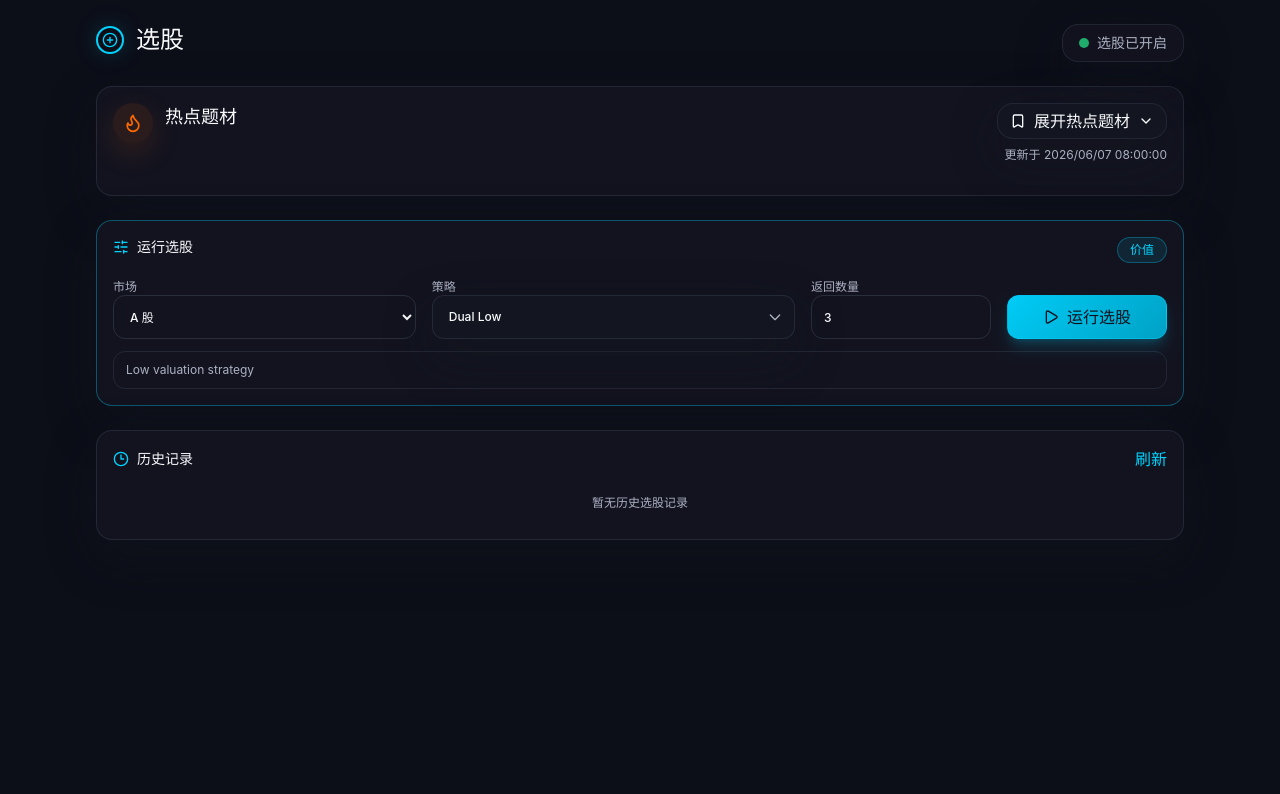
Test: StockScreeningPage › loads Screening hotspot themes on demand
Later steps or results of the test are not shown.
Expected: the text "选股已开启" is shown, [1097,33,1167,53]
Step 1. Click the button "展开热点题材" → click(1082, 121), box [997,103,1167,139]
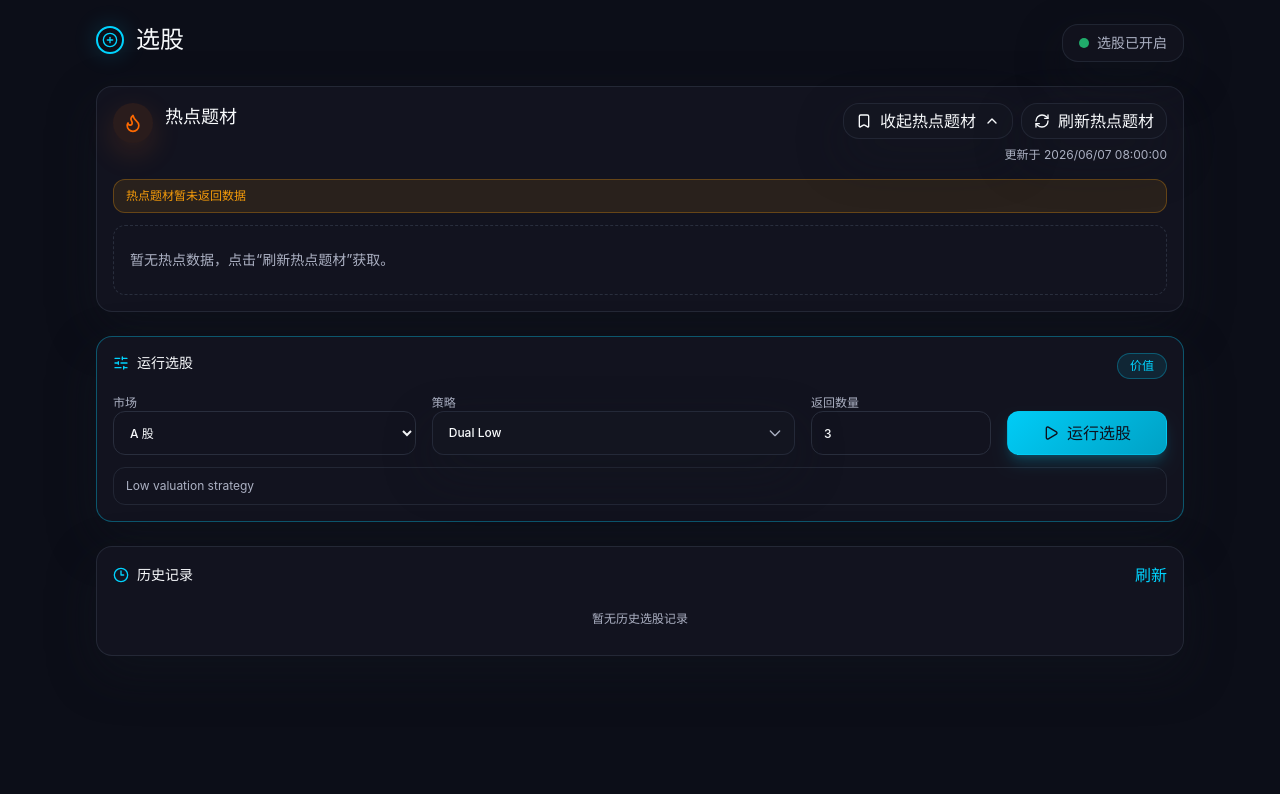
Step 2. Click the button "刷新热点题材" → click(1094, 121), box [1021,103,1167,139]
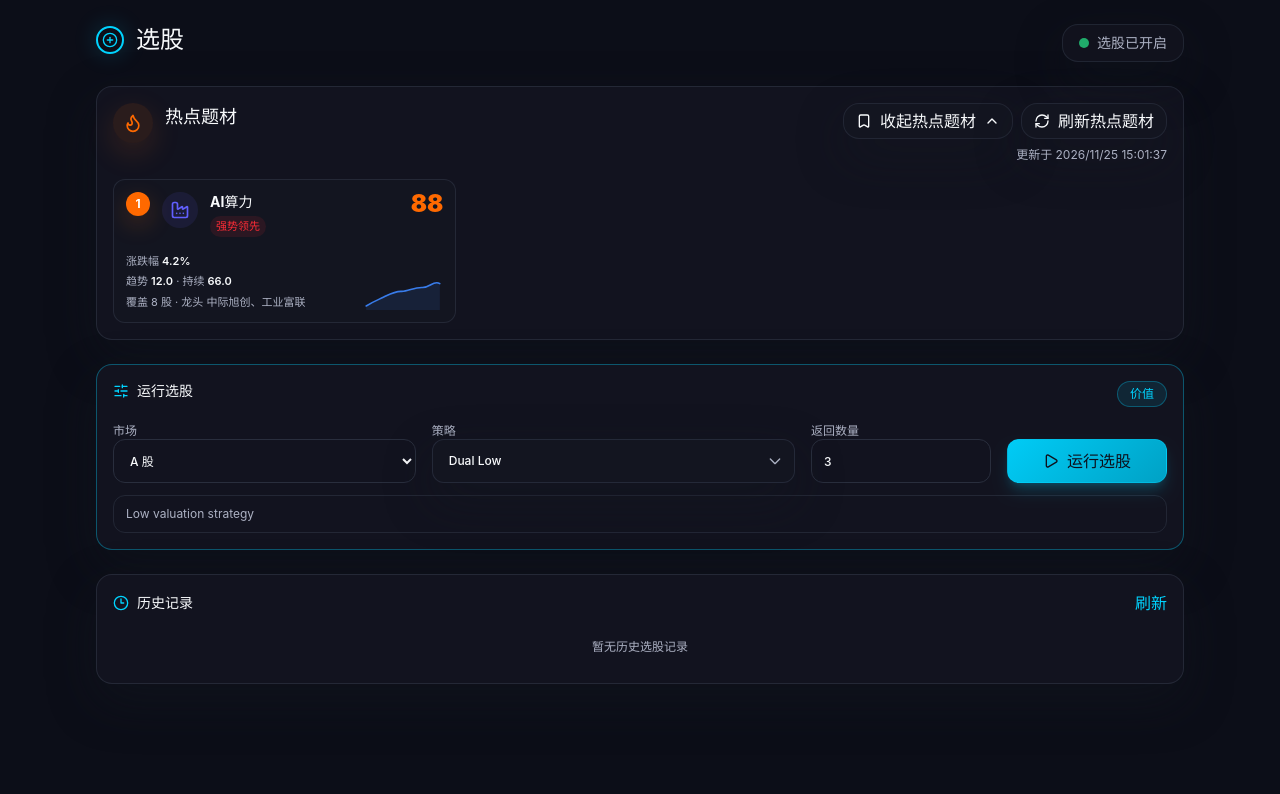
Step 3. Click the button "AI算力" → click(180, 210), box [113,179,456,323]
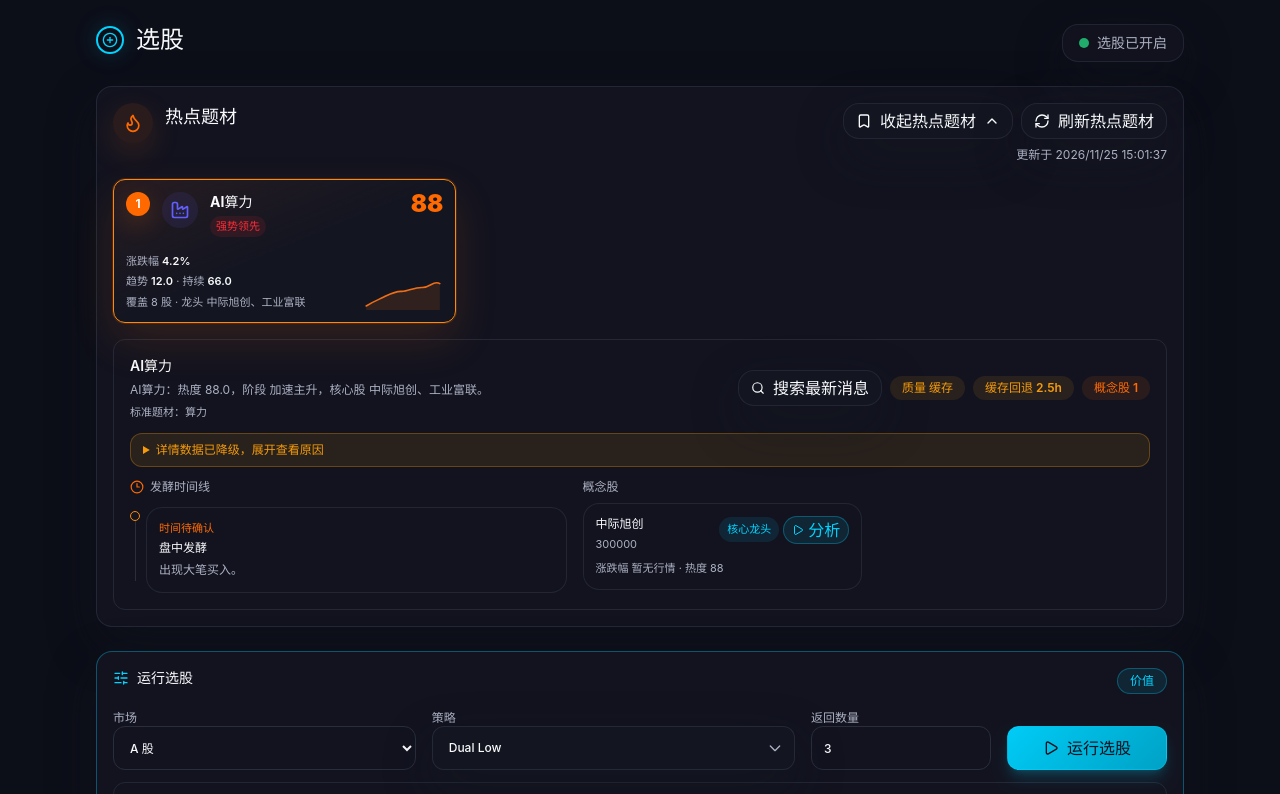
Result: the text "AI算力" is shown at [210,193,252,210]
Result: the text "强势领先" is shown at [210,216,266,236]
Result: the text "覆盖 8 股 · 龙头 中际旭创、工业富联" is shown at [126,294,306,308]
